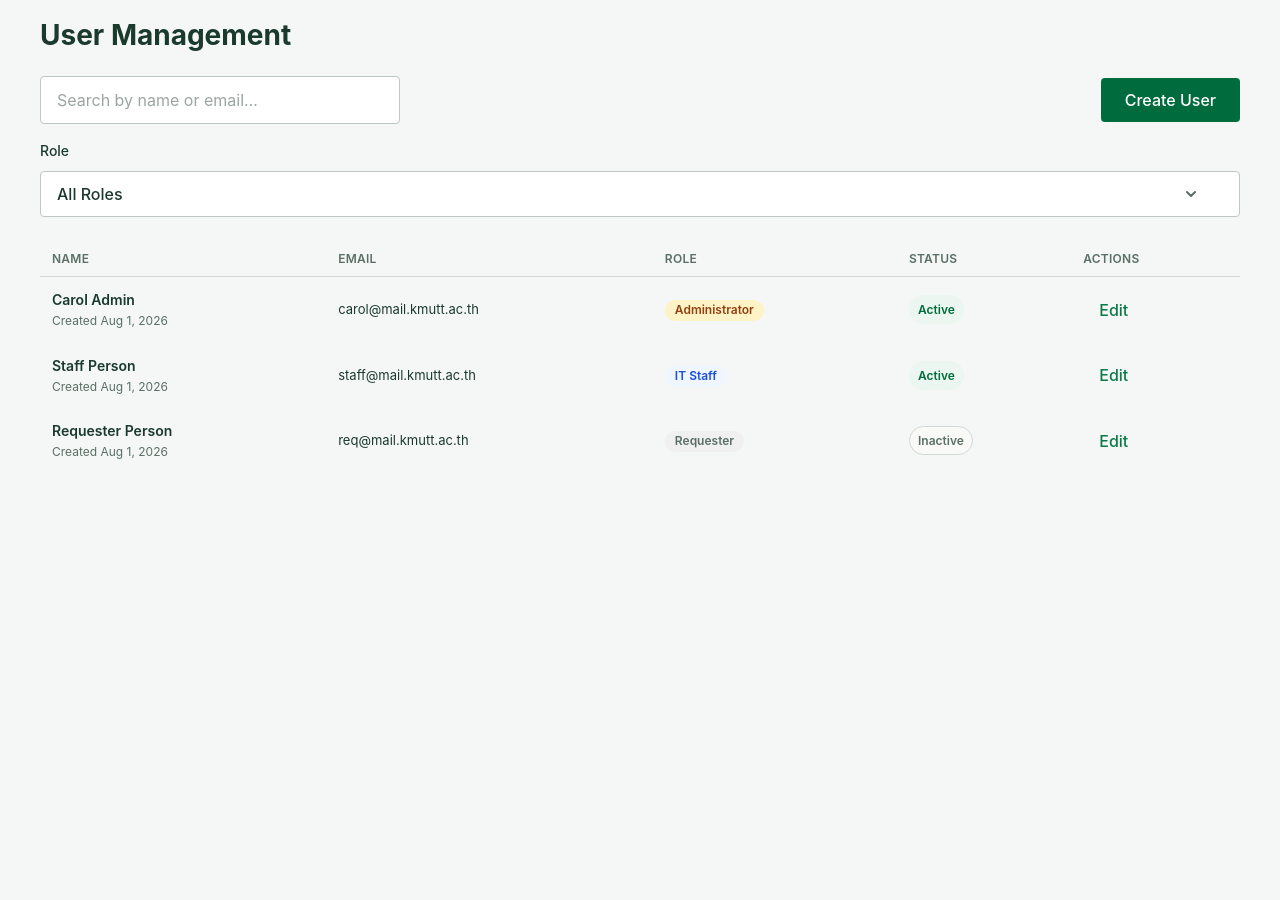
Scenario: UserList (UI-11) › disables the Active toggle for the current administrator's own account
expect the table with test id "users-table" is shown: met, box [40, 241, 1240, 474]
expect the text "Carol Admin" is shown: met, box [52, 291, 135, 308]
Click the button with test id "edit-user-btn" in the row of "Carol Admin" at (1114,310), box [1083, 292, 1144, 328]
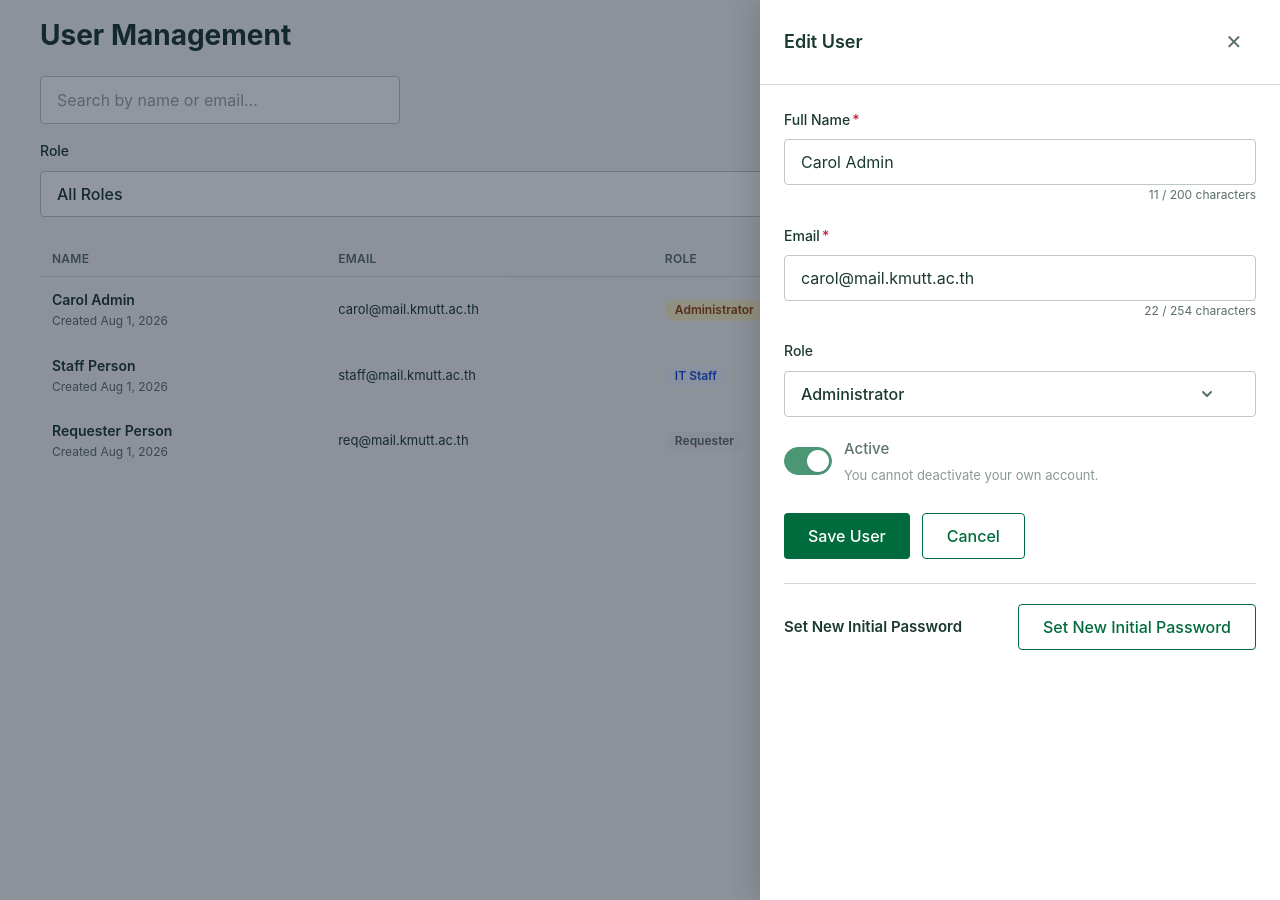
expect the switch with test id "user-active-toggle" is disabled: met, box [784, 447, 832, 475]
expect the text "You cannot deactivate your own account." is shown: met, box [844, 464, 1098, 485]
